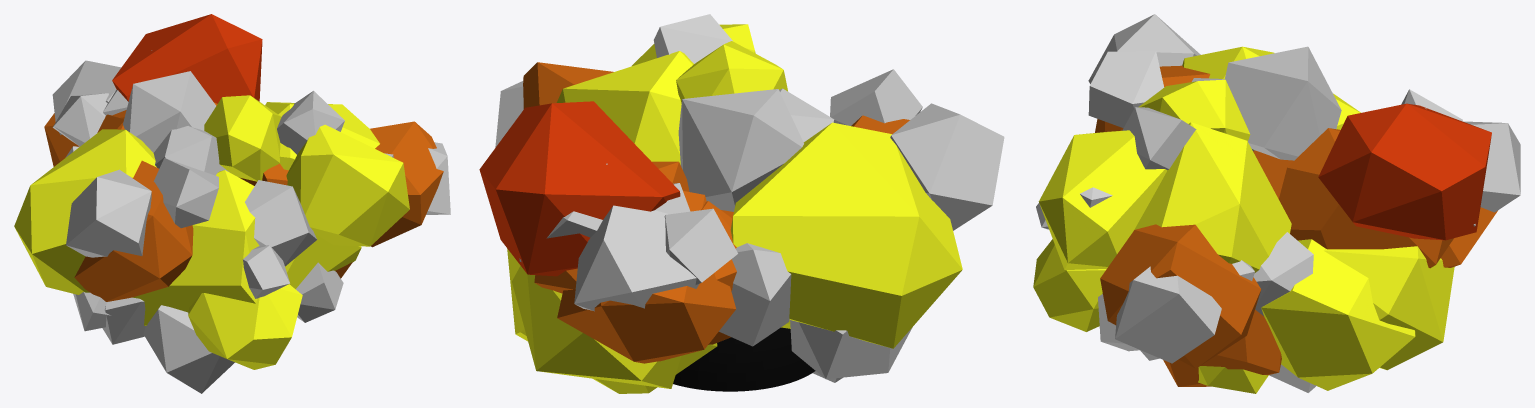
File: Explosion0007.obj
The picture shows the model from 3 angles, left to right: view 1: azimuth 30°, elevation 25°; view 2: azimuth 150°, elevation 25°; view 3: azimuth 270°, elevation 25°; orthographic projection. The views are drawn at different scales.
Parts seen in each view (by area): view 1: Cube.002_Material.003, Cube_Material, Cube.001_Material.002, Cube.003_Material.004; view 2: Cube.002_Material.003, Cube_Material, Cube.003_Material.004, Cube.001_Material.002, Circle_Material.001; view 3: Cube.002_Material.003, Cube_Material, Cube.001_Material.002, Cube.003_Material.004.
Part boxes in pixels (bbox=[...]): Cube.002_Material.003: bbox=[14, 95, 409, 369]; Cube_Material: bbox=[52, 50, 450, 393]; Cube.001_Material.002: bbox=[44, 102, 443, 301]; Cube.003_Material.004: bbox=[112, 14, 262, 103]; Cube.002_Material.003: bbox=[507, 24, 962, 393]; Cube_Material: bbox=[495, 14, 1004, 382]; Cube.003_Material.004: bbox=[479, 101, 680, 276]; Cube.001_Material.002: bbox=[523, 62, 909, 363]; Circle_Material.001: bbox=[673, 327, 815, 391]; Cube.002_Material.003: bbox=[1033, 46, 1454, 393]; Cube_Material: bbox=[1036, 14, 1520, 392]; Cube.001_Material.002: bbox=[1095, 65, 1497, 386]; Cube.003_Material.004: bbox=[1318, 103, 1491, 240].
Bounding box in the file's own units: 5.64 × 3.78 × 5.12.
